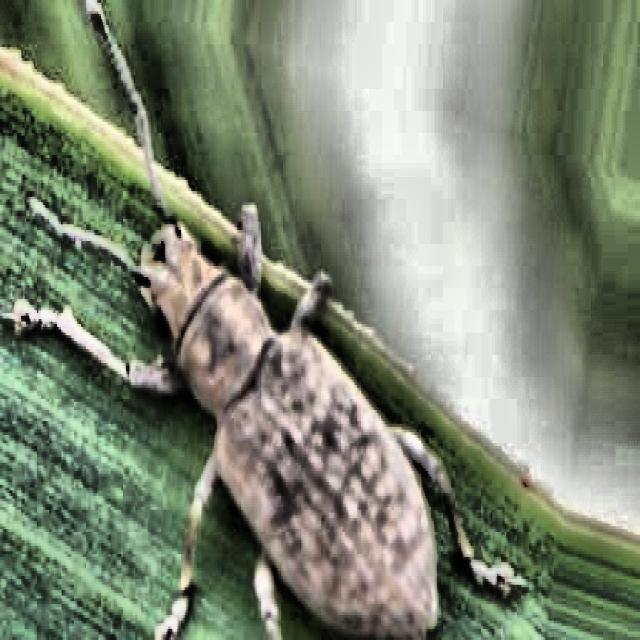Stink bug: (39, 125, 491, 640)
